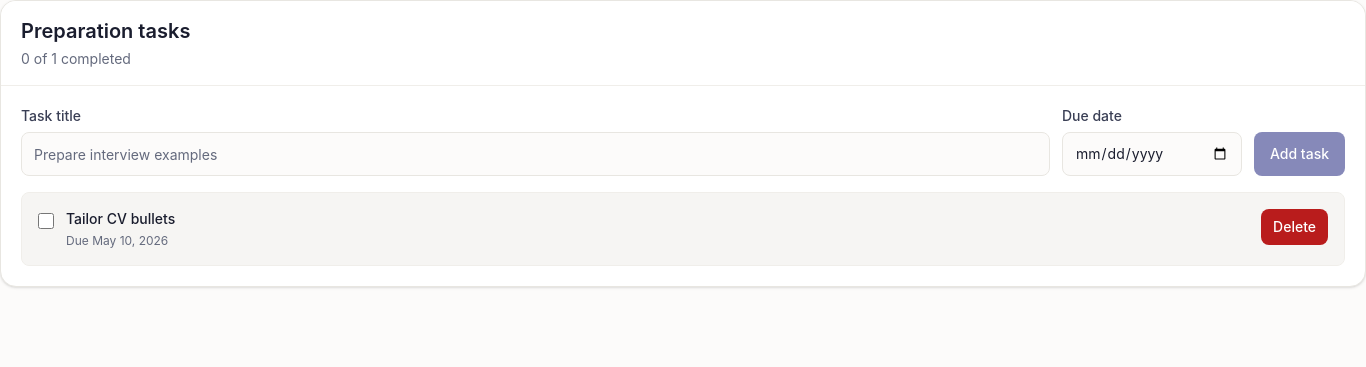
Scenario: JobDetailTasksPanel › renders a mutation failure without losing the loaded tasks
Click the checkbox named "Tailor CV bullets".
click(46, 221)  # box [38,213,54,229]
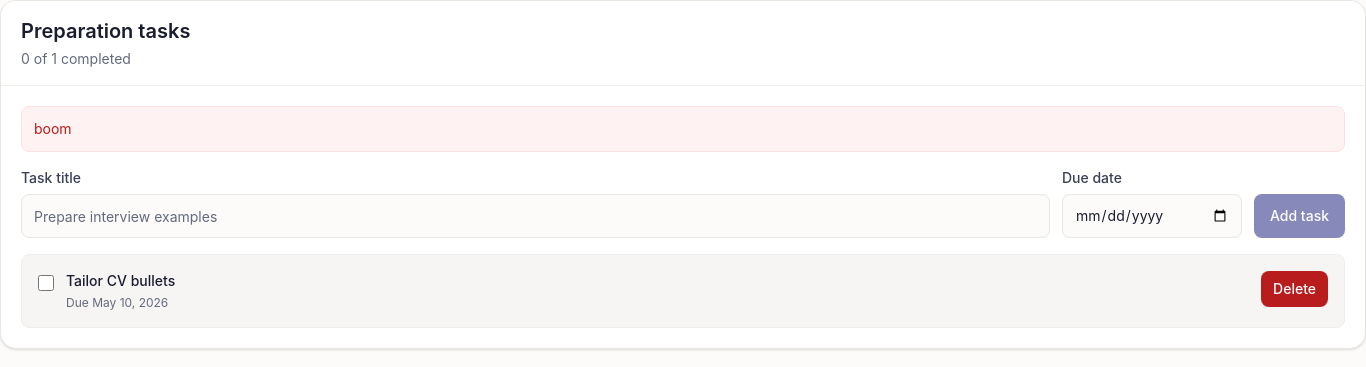
Expected: the text "Tailor CV bullets" is shown, [66,272,175,289]
Expected: the message "boom" is shown, [21,106,1345,152]
